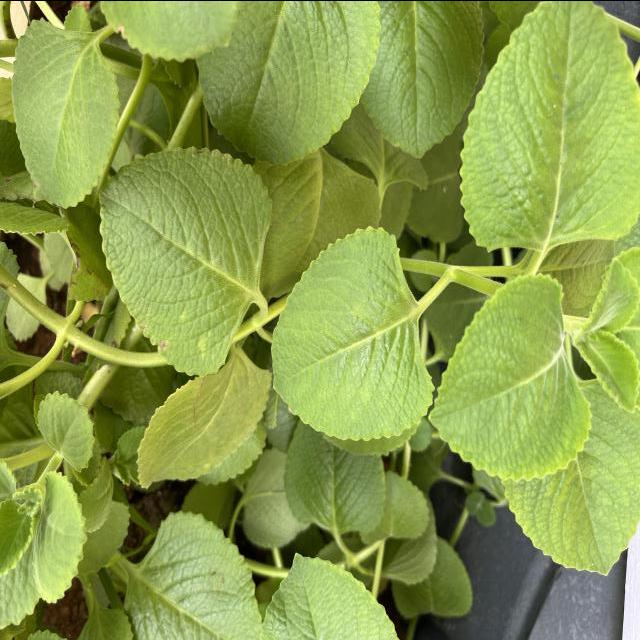Plectranthus barbatus: (457, 0, 640, 253), (97, 144, 275, 378), (270, 224, 438, 441), (427, 270, 593, 483), (193, 0, 381, 162), (500, 391, 640, 578), (7, 15, 122, 208), (358, 0, 488, 160), (122, 506, 262, 640), (136, 362, 274, 491), (36, 387, 96, 473)
